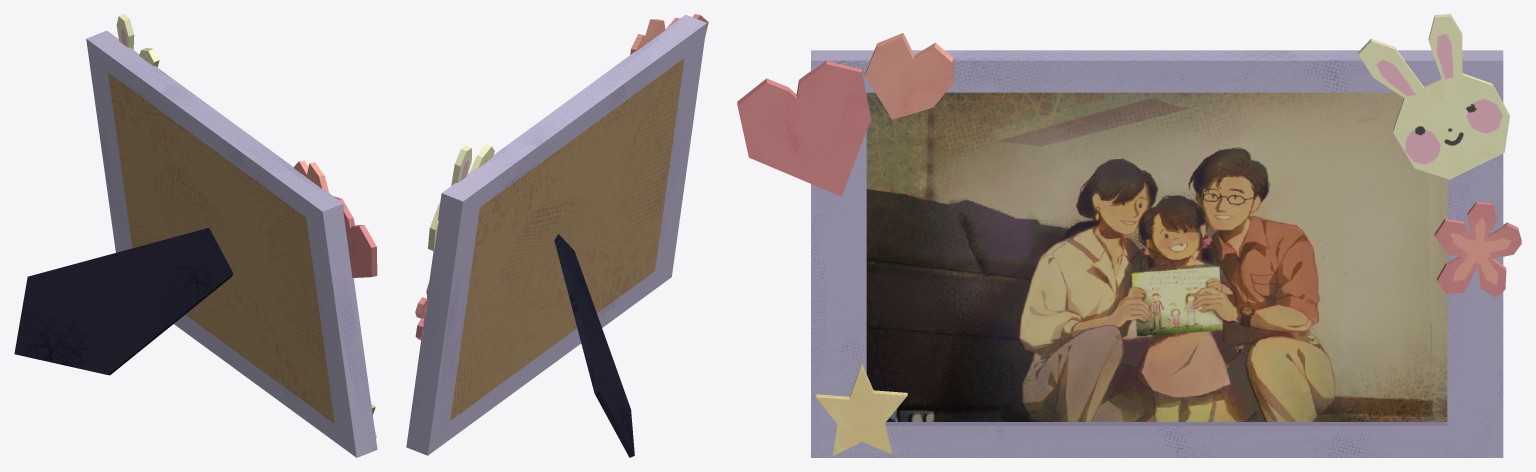
Rendered from family photo frame .fbx.
3 views of the same model, side by side, from view 1: azimuth 30°, elevation 25°; view 2: azimuth 150°, elevation 25°; view 3: azimuth 270°, elevation 25° (orthographic). The views are drawn at different scales.
Parts seen in each view (by area): view 1: frame, frameDecoration; view 2: frame, frameDecoration; view 3: frame, frameDecoration.
Part boxes in pixels (x1,y1,x2,y2): frame: (14, 30, 377, 457); frameDecoration: (116, 14, 377, 438); frame: (406, 14, 706, 457); frameDecoration: (415, 14, 708, 339); frame: (811, 50, 1503, 457); frameDecoration: (737, 14, 1521, 455).
Size of the model in its own units: 259 by 392 by 662.
3 materials, 3 textured.
